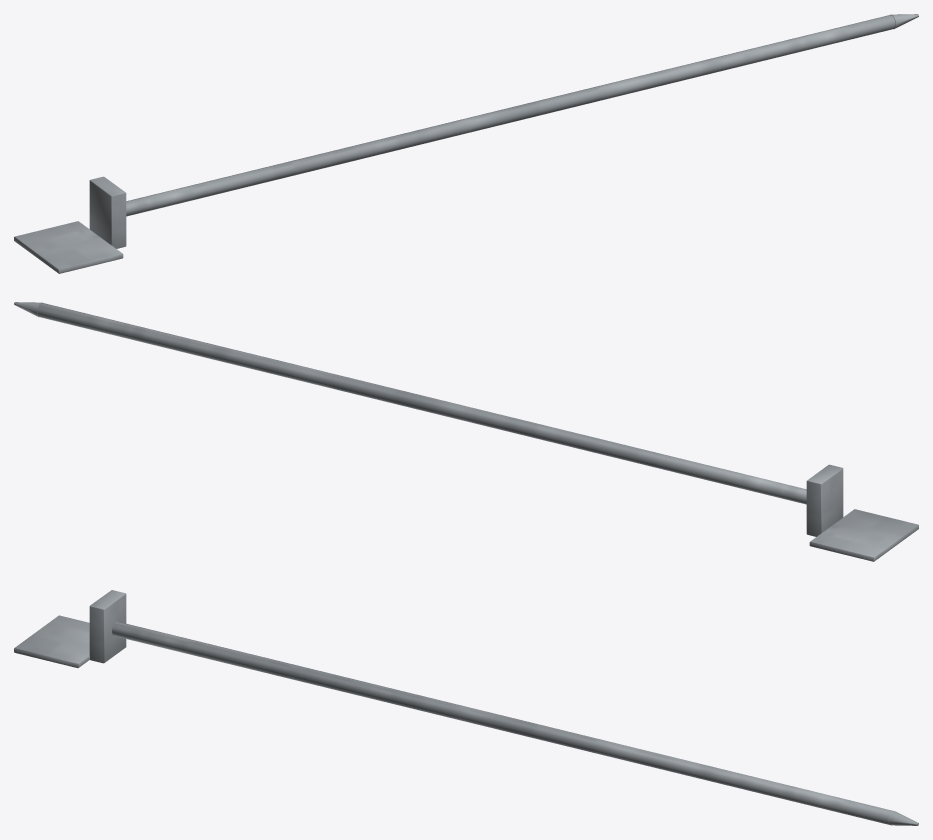
File: ELE-SPD-002_lod1.glb
3 views of the same model, one above another, from view 1: azimuth 30°, elevation 25°; view 2: azimuth 150°, elevation 25°; view 3: azimuth 330°, elevation 25° (orthographic).
Visible parts, largest first — view 1: ELE-SPD-002_haste, ELE-SPD-002_base, ELE-SPD-002_dobra; view 2: ELE-SPD-002_haste, ELE-SPD-002_base, ELE-SPD-002_dobra; view 3: ELE-SPD-002_haste, ELE-SPD-002_base, ELE-SPD-002_dobra.
Boxes of the visible parts, x1,y1,x2,y2 form: ELE-SPD-002_haste: (126,15,895,216); ELE-SPD-002_base: (14,221,123,273); ELE-SPD-002_dobra: (89,176,126,248); ELE-SPD-002_haste: (37,303,806,504); ELE-SPD-002_base: (809,509,918,561); ELE-SPD-002_dobra: (806,464,843,536); ELE-SPD-002_haste: (112,621,892,824); ELE-SPD-002_base: (14,615,89,667); ELE-SPD-002_dobra: (89,590,126,663).
Bounding box in the file's own units: 0.675 × 0.04 × 0.06.
Materials: 1 (1 with a texture image).
